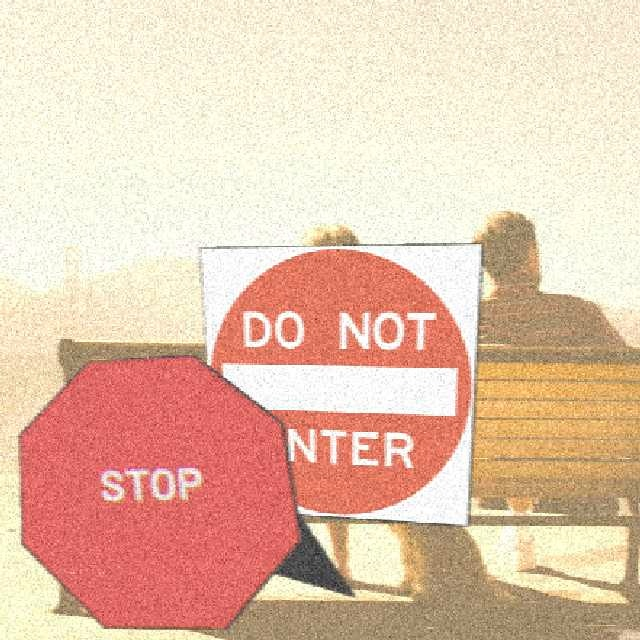DO_NOT_ENTER: (197, 241, 482, 526)
ONE_WAY_ right: (71, 460, 356, 597)
STOP: (16, 352, 301, 629)
